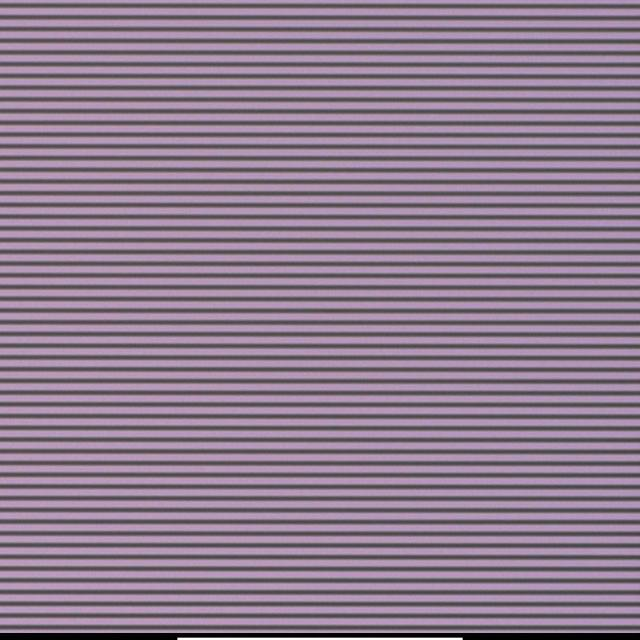03_intrusion: (298, 317, 307, 328)
